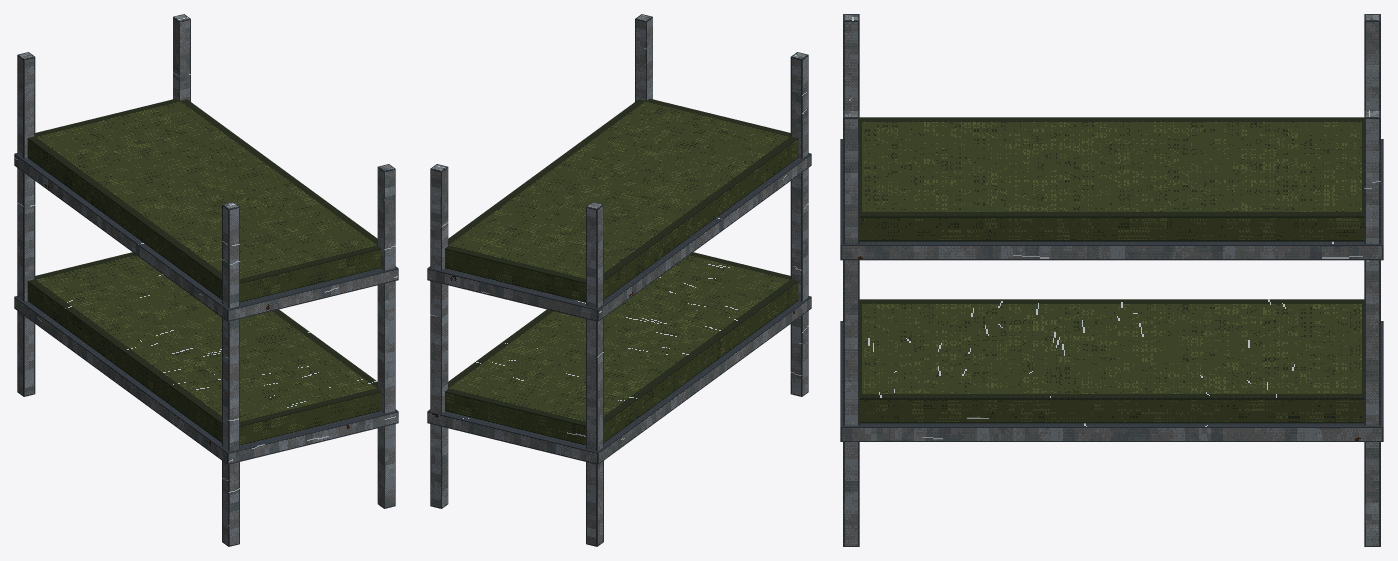
File: SM_Bunk_Steel_01.glb
3 views of the same model, side by side, from view 1: azimuth 30°, elevation 25°; view 2: azimuth 150°, elevation 25°; view 3: azimuth 270°, elevation 25° (orthographic). The views are drawn at different scales.
Visible parts, largest first — view 1: SM_Bunk_Steel_01; view 2: SM_Bunk_Steel_01; view 3: SM_Bunk_Steel_01.
Part boxes in pixels (left/top/right/bottom): SM_Bunk_Steel_01: left=14, top=14, right=398, bottom=546; SM_Bunk_Steel_01: left=427, top=14, right=811, bottom=546; SM_Bunk_Steel_01: left=840, top=14, right=1383, bottom=546.
Bounding box in the file's own units: 0.9 × 1.7 × 1.95.
1 material, 1 textured.
